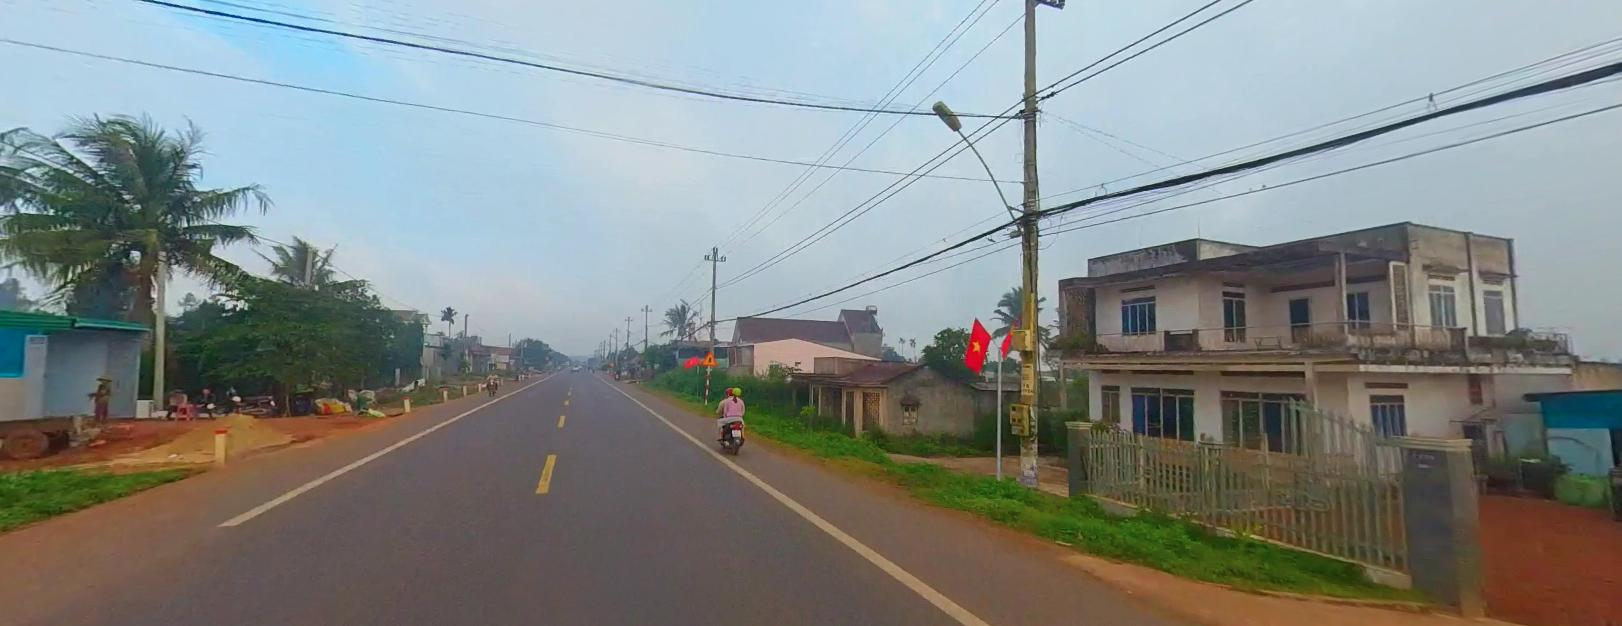Nguy hiem: (702, 350, 717, 364)
